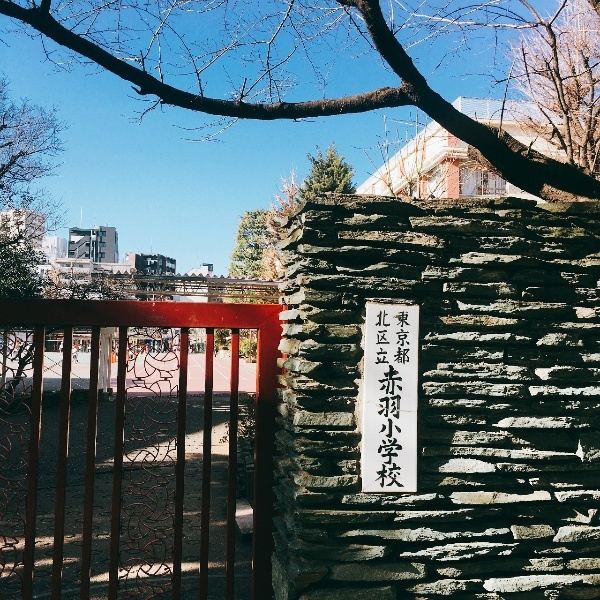text: (385, 364, 400, 491), (379, 364, 384, 491), (401, 311, 412, 365), (401, 364, 405, 491), (376, 310, 384, 365), (385, 310, 391, 365), (397, 311, 400, 365)
